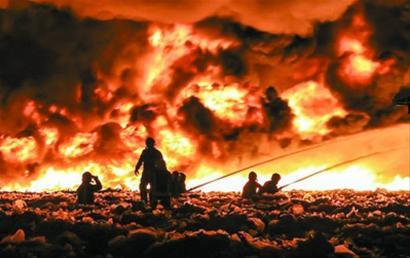fire: (106, 48, 358, 130)
